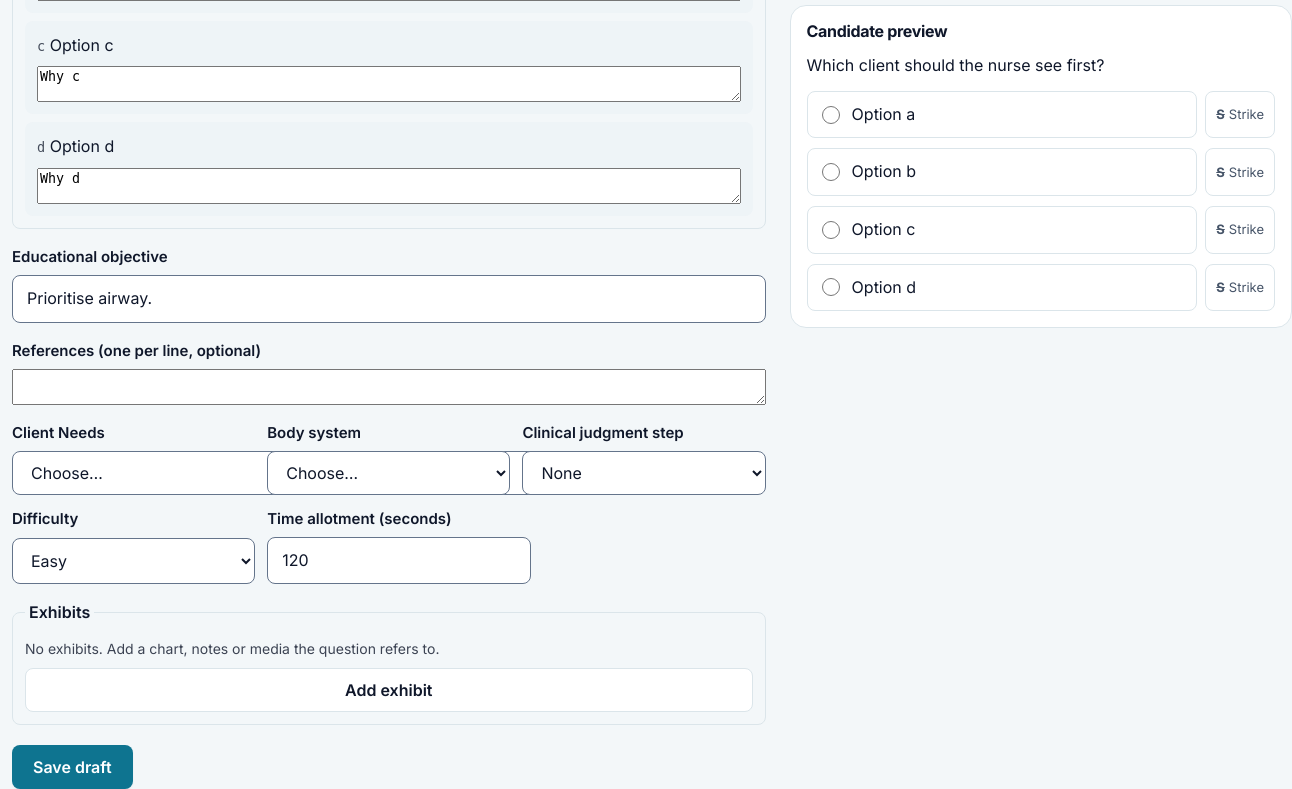
it: DraftForm › sends the draft in the API's shape
The width and height of the screenshot is (1292, 789).
(page scrolled)
Click the button "Save draft": [72, 767] box [12,745,133,788]
(page scrolled)
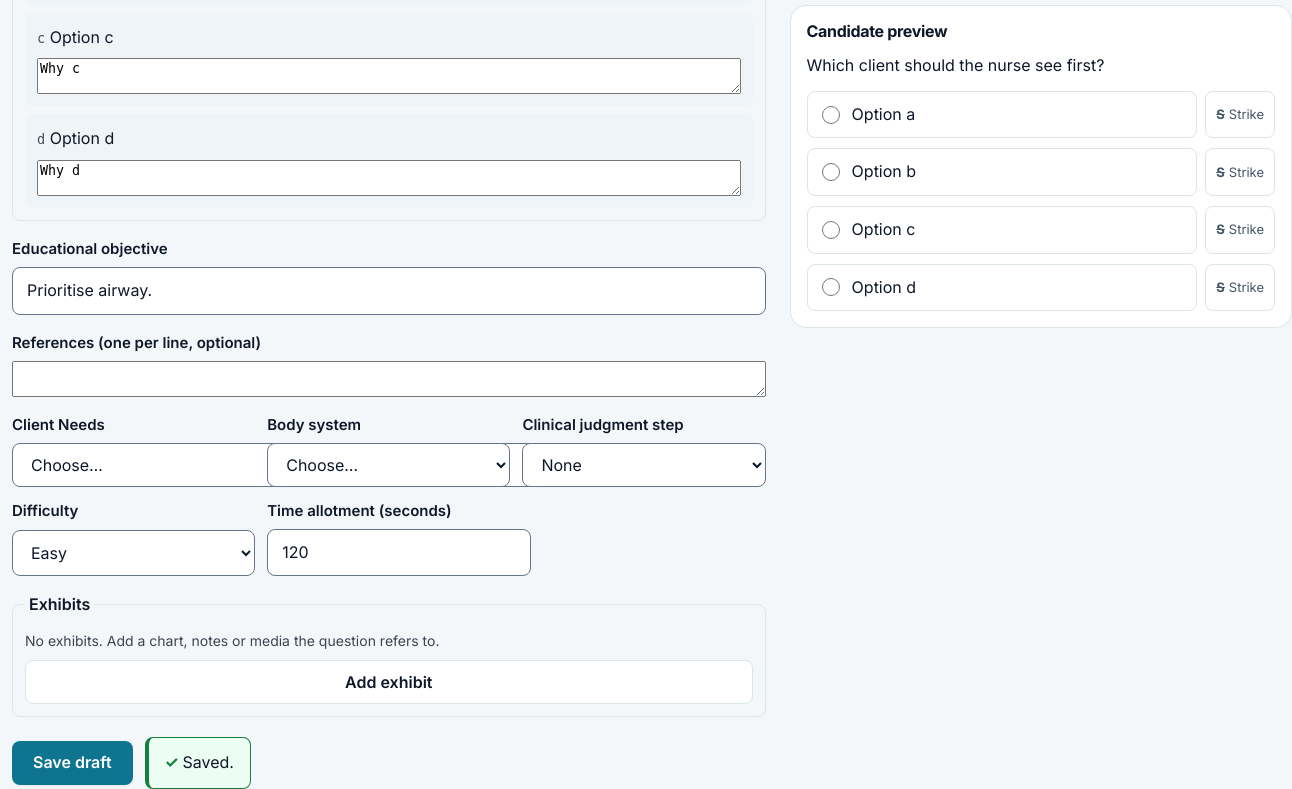
Expected: the text "Saved." is shown, [145,737,251,788]
